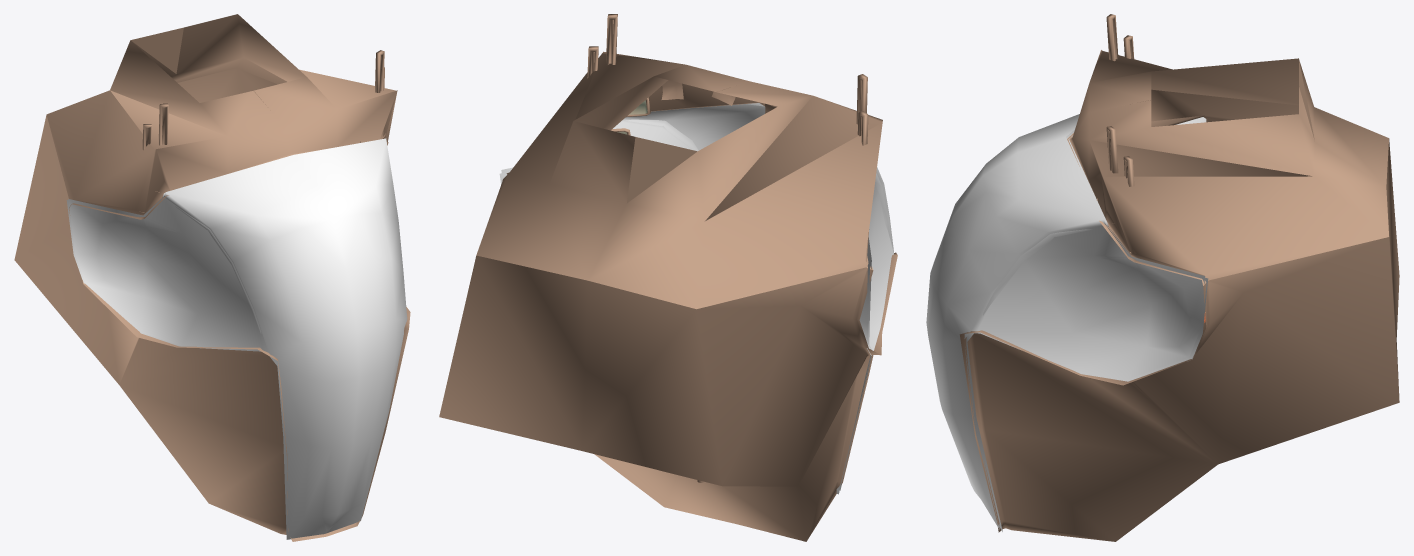
Rendered from weergtgtsafse.fbx.
3 views of the same model, side by side, from view 1: azimuth 30°, elevation 25°; view 2: azimuth 150°, elevation 25°; view 3: azimuth 270°, elevation 25° (orthographic). The views are drawn at different scales.
Parts seen in each view (by area): view 1: windows_collapsed, cockpit_roof, Cockpit; view 2: Cockpit, cockpit_roof, windows_collapsed, Screen_left_upper; view 3: Cockpit, cockpit_roof, windows_collapsed.
Boxes of the visible parts, x1,y1,x2,y2 form: windows_collapsed: (66, 138, 407, 539); cockpit_roof: (46, 14, 397, 219); Cockpit: (14, 68, 410, 541); Cockpit: (439, 180, 897, 541); cockpit_roof: (476, 51, 882, 309); windows_collapsed: (499, 103, 893, 494); Screen_left_upper: (606, 14, 650, 117); Cockpit: (959, 118, 1399, 541); cockpit_roof: (1067, 50, 1388, 285); windows_collapsed: (926, 114, 1208, 531).
Size of the model in its own units: 328 by 409 by 394.
